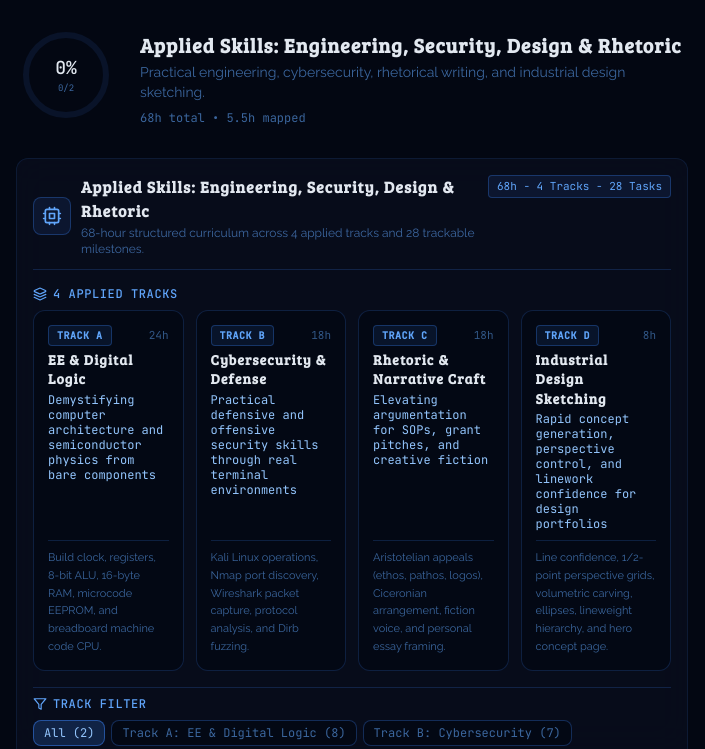
Test case: CurriculumView - IELTS 2026 Preparation Sprint View › filters applied topics when clicking track filter buttons and resets filter
// Click Track A
Click the button "Track A: EE & Digital Logic (8)".
click(234, 733)  # box [111, 720, 357, 746]
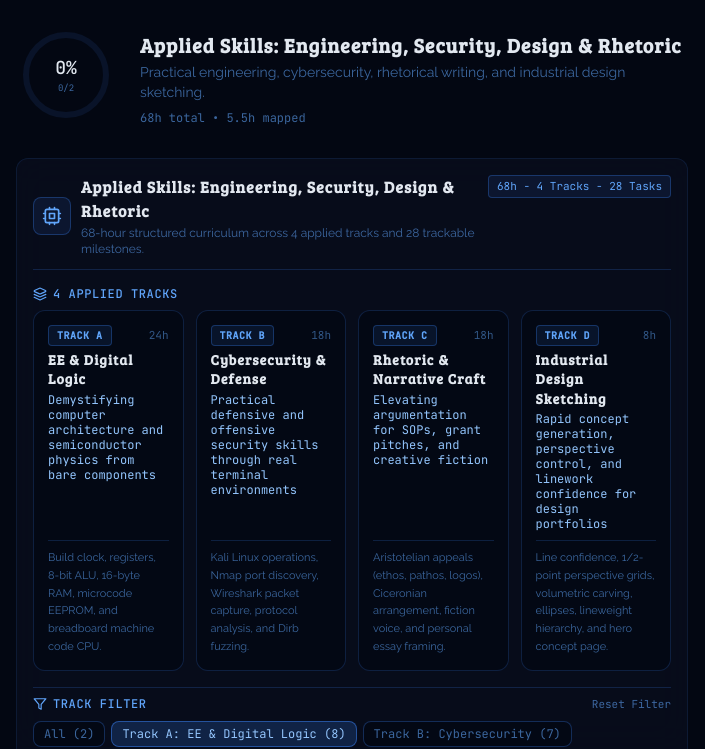
Expected: the text "Kali Linux Environment: Set up Kali Linux VM" is not shown
// Click Track B
Click the button "Track B: Cybersecurity (7)".
click(467, 734)  # box [363, 720, 572, 746]
(page scrolled)
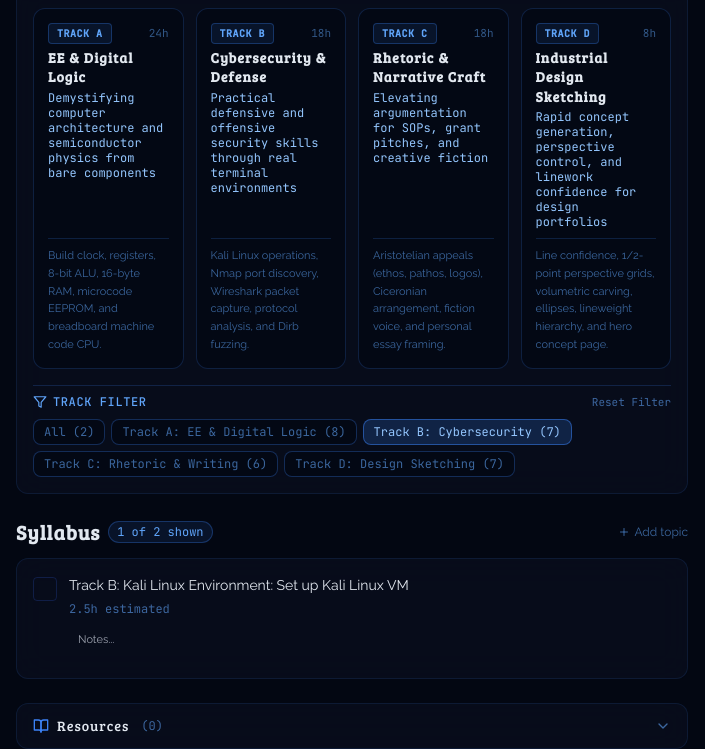
Expected: the text "Digital Logic: Build a 555-timer astable multivibrator" is not shown
Now the text "1 of 2 shown" is shown, box [108, 520, 212, 542]
Now the text "Track B: Kali Linux Environment: Set up Kali Linux VM" is shown, box [69, 574, 409, 594]
Click the button "Track D: Design Sketching (7)".
click(400, 464)  # box [284, 450, 515, 476]
(page scrolled)
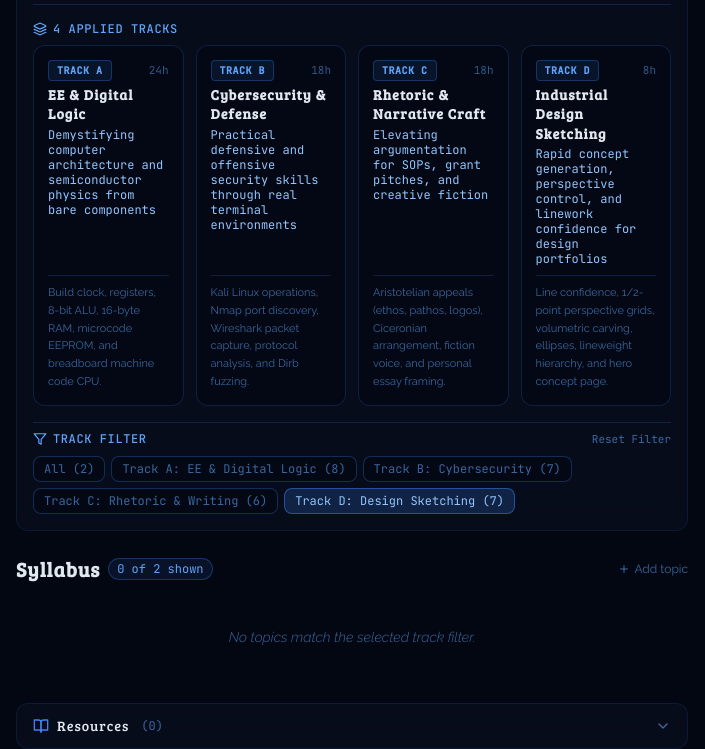
Expected: the text "Digital Logic: Build a 555-timer astable multivibrator" is not shown
Now the text "Kali Linux Environment: Set up Kali Linux VM" is gone
Now the text "No topics match the selected track filter." is shown, box [229, 628, 475, 644]
// Click Reset Filter
Click the button "Reset Filter".
click(631, 439)  # box [592, 431, 671, 448]
(page scrolled)
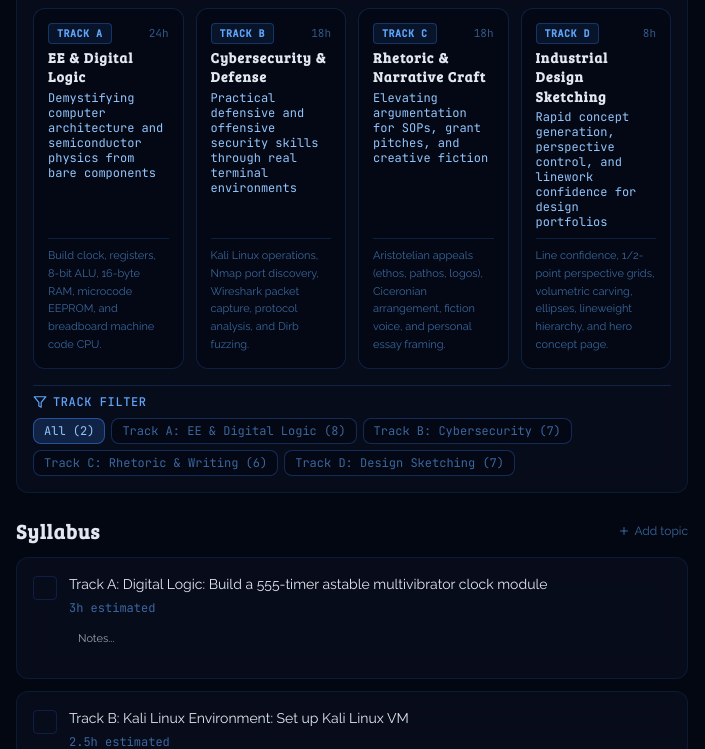
Now the text "Digital Logic: Build a 555-timer astable multivibrator" is shown, box [69, 576, 548, 592]
Now the text "Track B: Kali Linux Environment: Set up Kali Linux VM" is shown, box [69, 708, 409, 728]
